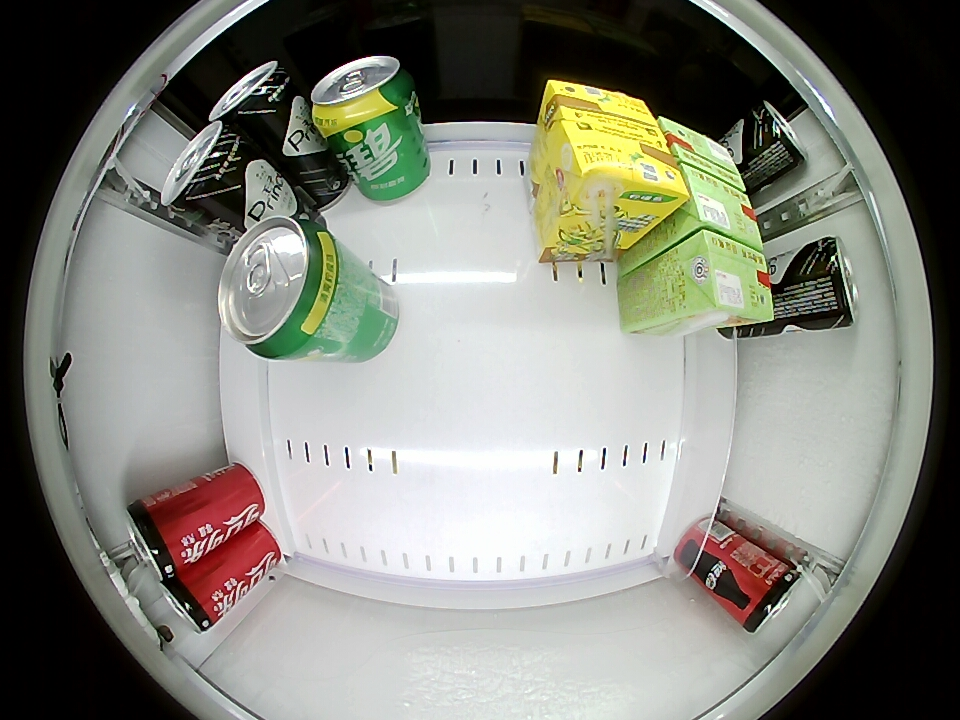lingdukele: (124, 494, 188, 582), (733, 554, 800, 634), (159, 574, 220, 633)
qingdaowangzi-1: (161, 120, 250, 218), (209, 61, 295, 135), (801, 235, 858, 331), (742, 100, 807, 174)
wanglaoji: (676, 228, 776, 325), (676, 165, 763, 248), (658, 116, 744, 189)
weitaningmeng: (547, 119, 689, 219), (540, 79, 665, 142)
xuebi2: (219, 217, 352, 360), (311, 56, 417, 135)
